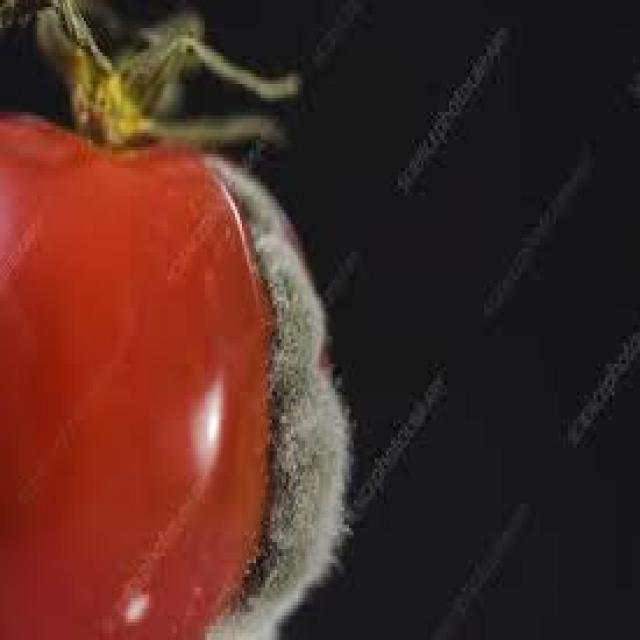organic waste: (0, 0, 351, 636)
